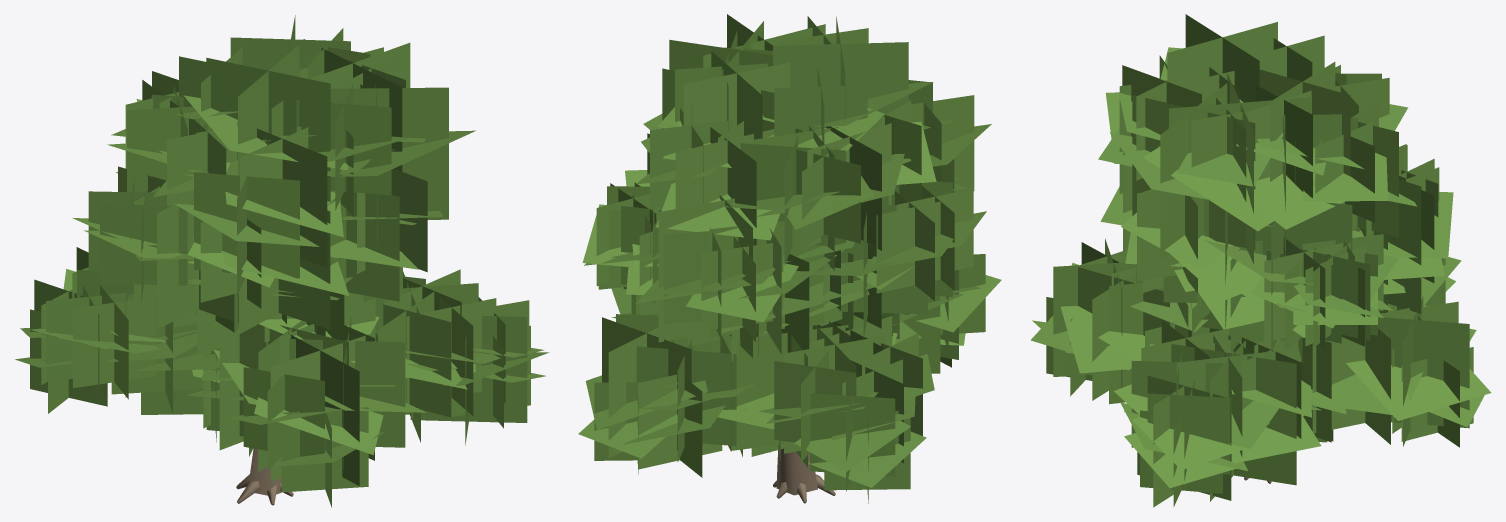
The model's file is pommier_4_f2_loin.glb.
The picture shows the model from 3 angles, left to right: view 1: azimuth 30°, elevation 25°; view 2: azimuth 150°, elevation 25°; view 3: azimuth 270°, elevation 25°; orthographic projection. The views are drawn at different scales.
Visible parts, largest first — view 1: Pommier_T4_f2_Leger_Loin; view 2: Pommier_T4_f2_Leger_Loin; view 3: Pommier_T4_f2_Leger_Loin.
Boxes of the visible parts, x1,y1,x2,y2 form: Pommier_T4_f2_Leger_Loin: (15, 15, 549, 507); Pommier_T4_f2_Leger_Loin: (578, 14, 1001, 503); Pommier_T4_f2_Leger_Loin: (1030, 14, 1491, 507).
Size of the model in its own units: 8.91 by 9.14 by 8.96.
